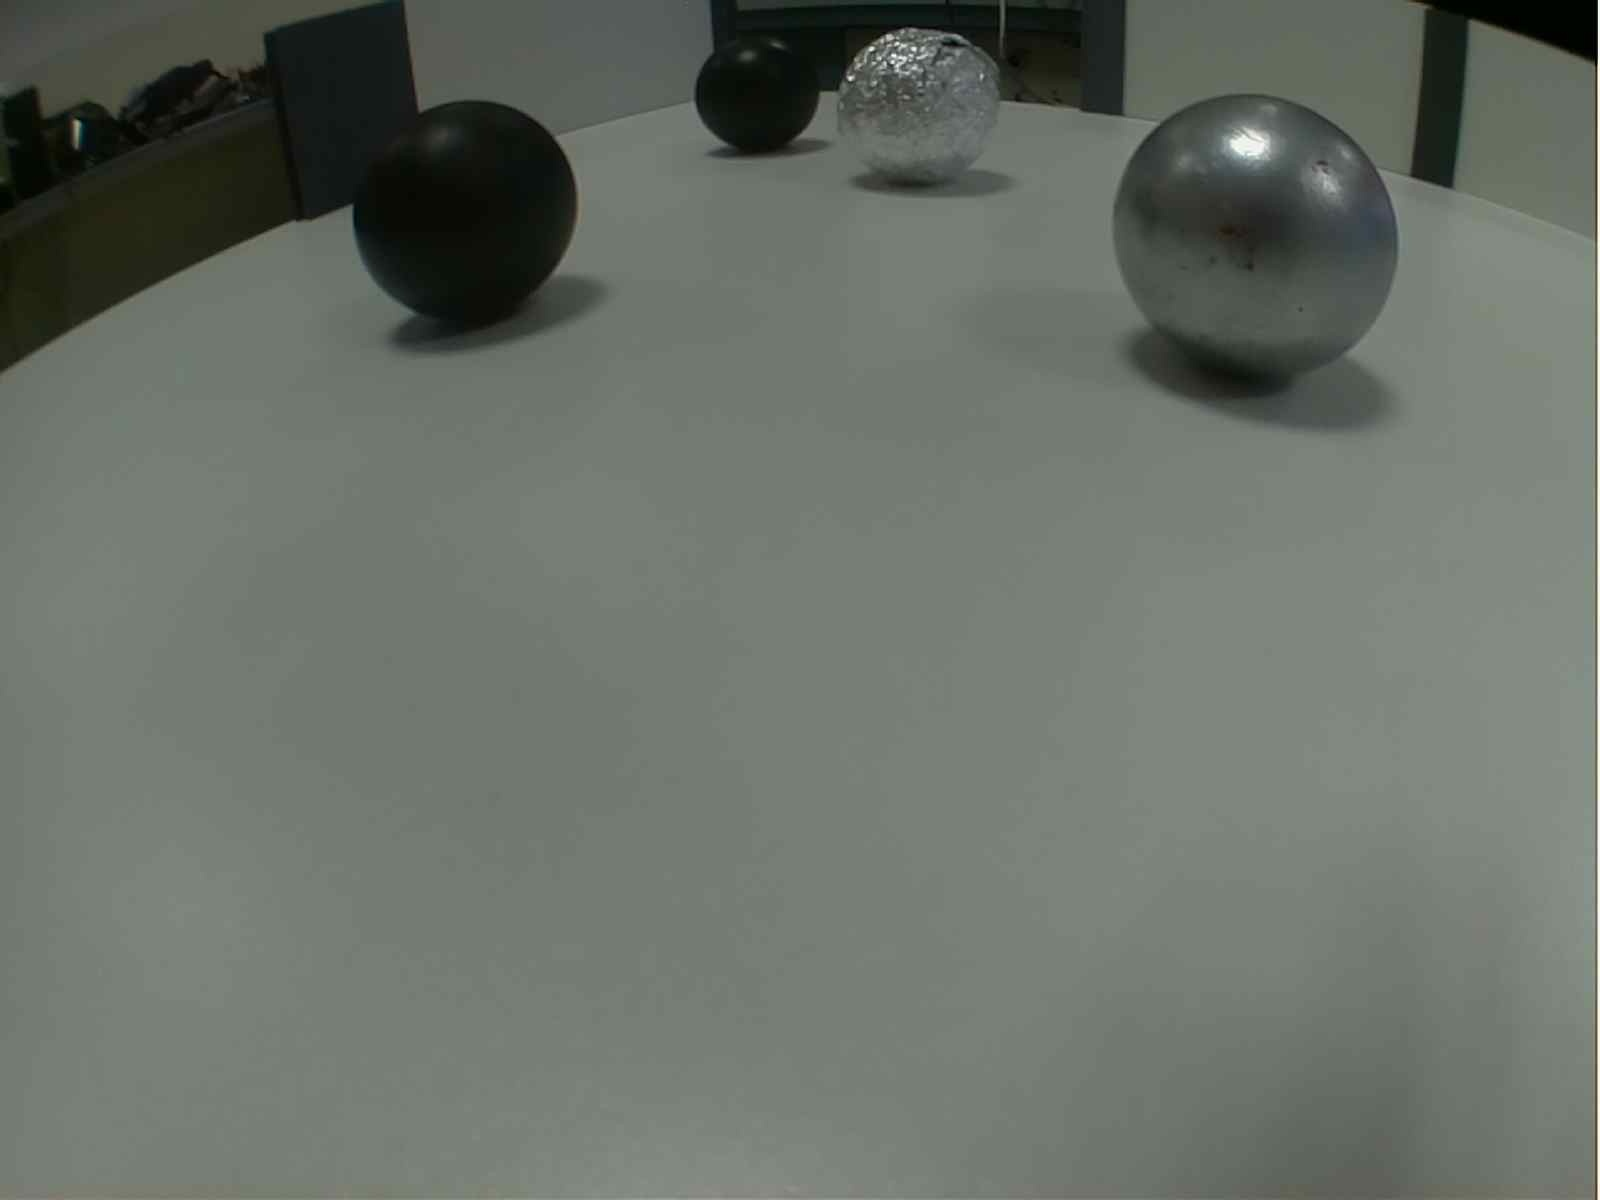bianca: (1112, 89, 1409, 384), (842, 26, 1002, 188)
nera: (346, 100, 583, 335), (685, 26, 818, 159)
